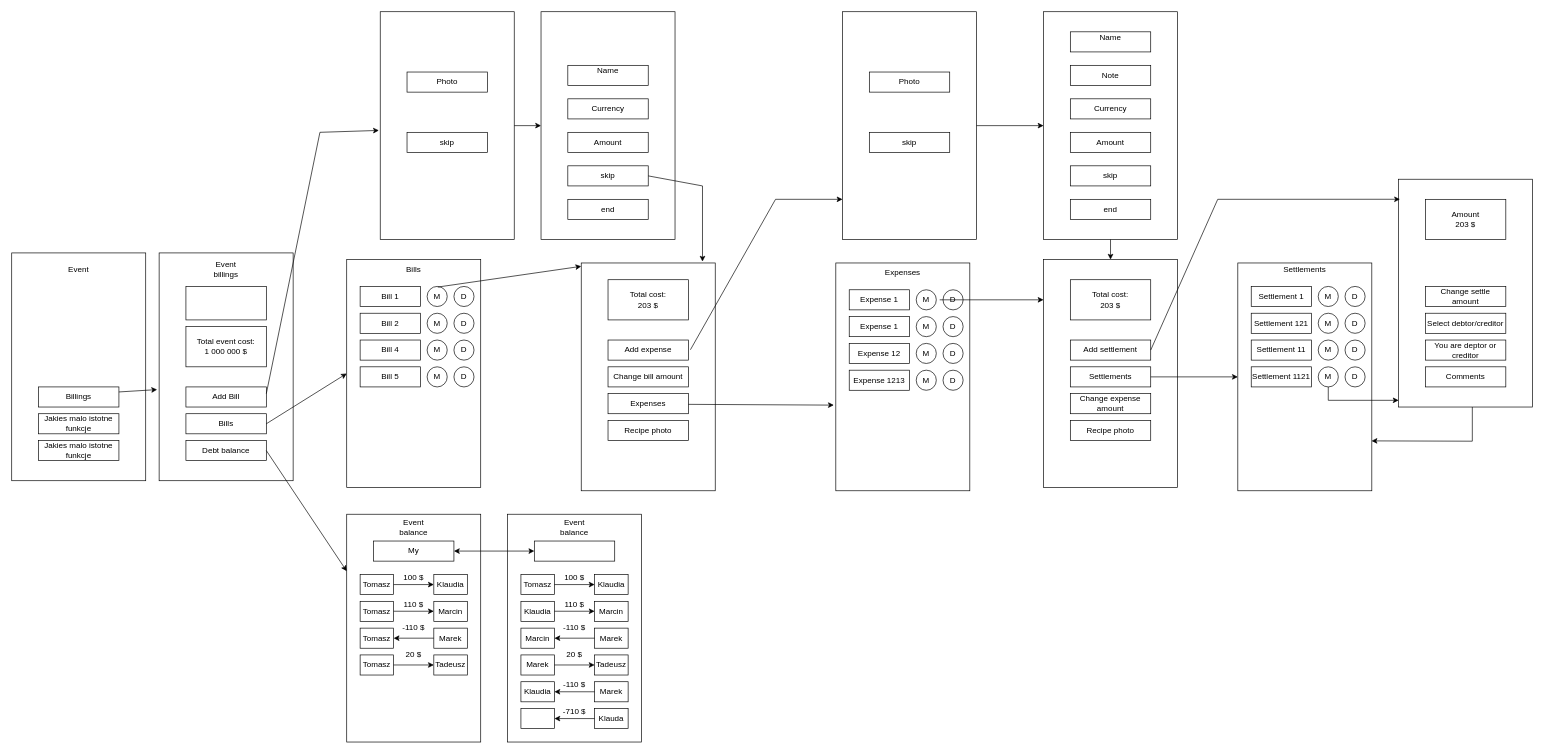
This 1544x754 diagram has some shape labels left out. Here are the shapes that lost their labels. From the top down, the box of each, then its label:
(185, 286, 266, 320): Your budget -1 000 000 $
(534, 540, 615, 561): All
(520, 708, 554, 729): Taduesz
